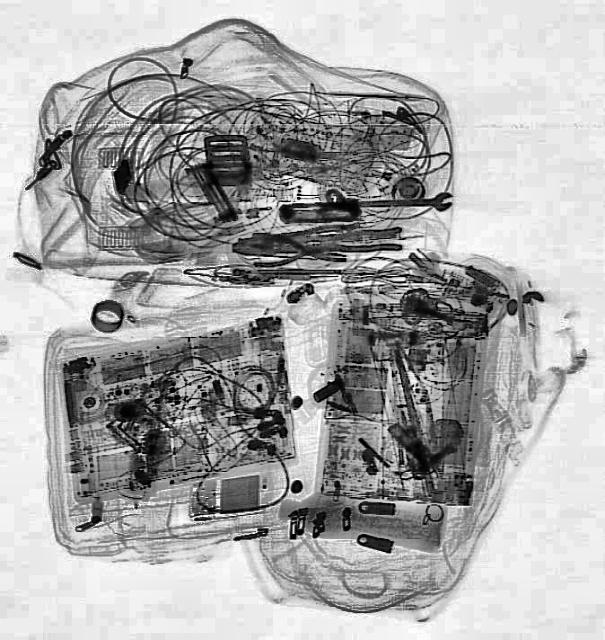Pliers: (248, 216, 360, 260)
Wrench: (328, 188, 451, 214)
